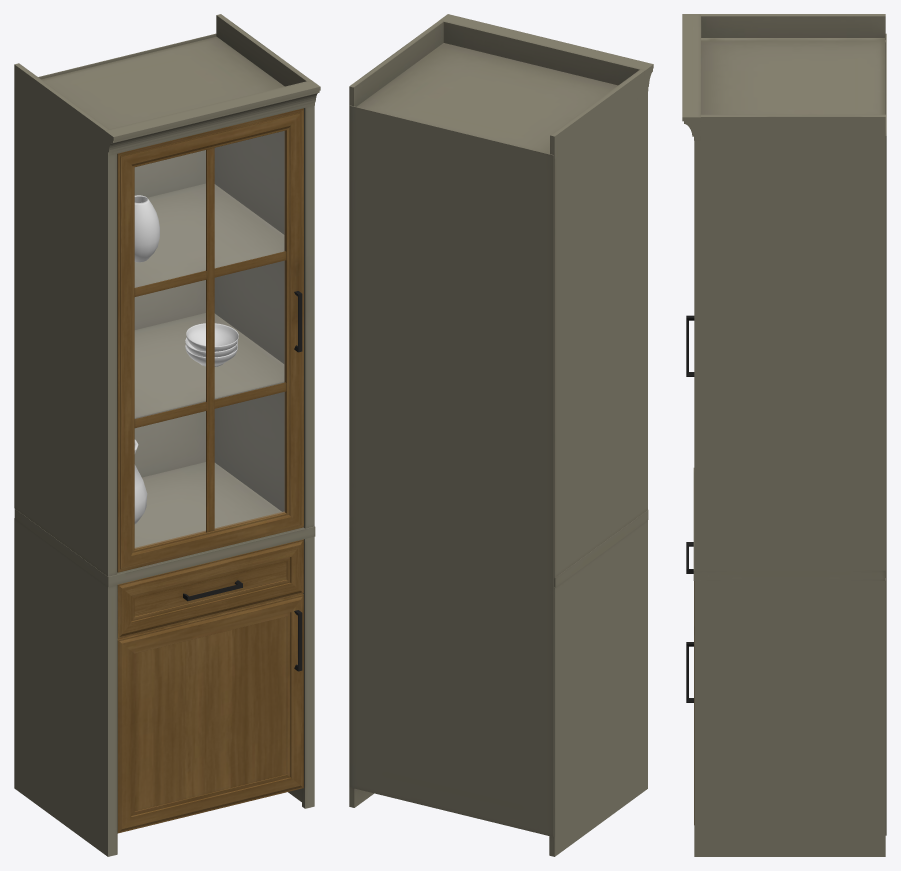
Rendered from paneleiro.glb.
The picture shows the model from 3 angles, left to right: view 1: azimuth 30°, elevation 25°; view 2: azimuth 150°, elevation 25°; view 3: azimuth 270°, elevation 25°; orthographic projection. The views are drawn at different scales.
Visible parts, largest first — view 1: PANELEIRO; view 2: PANELEIRO; view 3: PANELEIRO.
Part boxes in pixels (x1,y1,x2,y2): PANELEIRO: [14, 14, 320, 856]; PANELEIRO: [349, 14, 653, 856]; PANELEIRO: [682, 14, 886, 856].
Size of the model in its own units: 0.661 by 2.21 by 0.5525.
3 materials, 1 textured.
